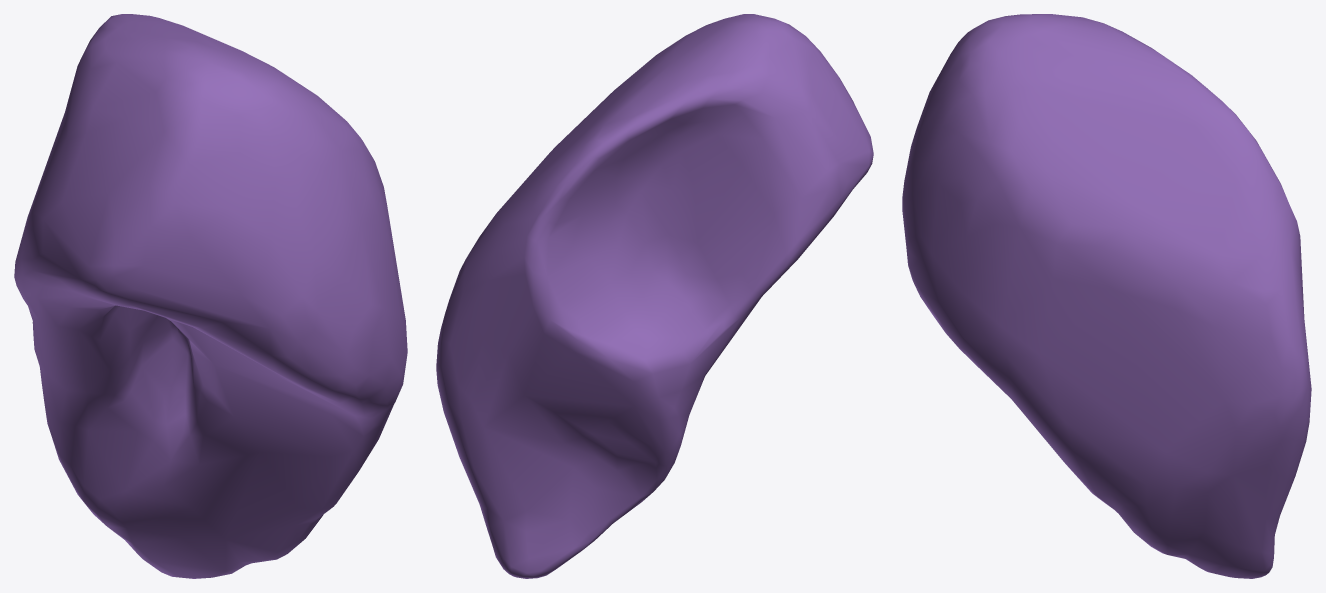
The picture shows the model from 3 angles, left to right: view 1: azimuth 30°, elevation 25°; view 2: azimuth 150°, elevation 25°; view 3: azimuth 270°, elevation 25°; orthographic projection. The views are drawn at different scales.
Parts seen in each view (by area): view 1: 脾; view 2: 脾; view 3: 脾.
Boxes of the visible parts, box(x1,y1,x2,y2) form: 脾: box(14, 14, 407, 578); 脾: box(436, 14, 873, 578); 脾: box(902, 14, 1311, 578).
Bounding box in the file's own units: 0.0858 × 0.1401 × 0.1035.
